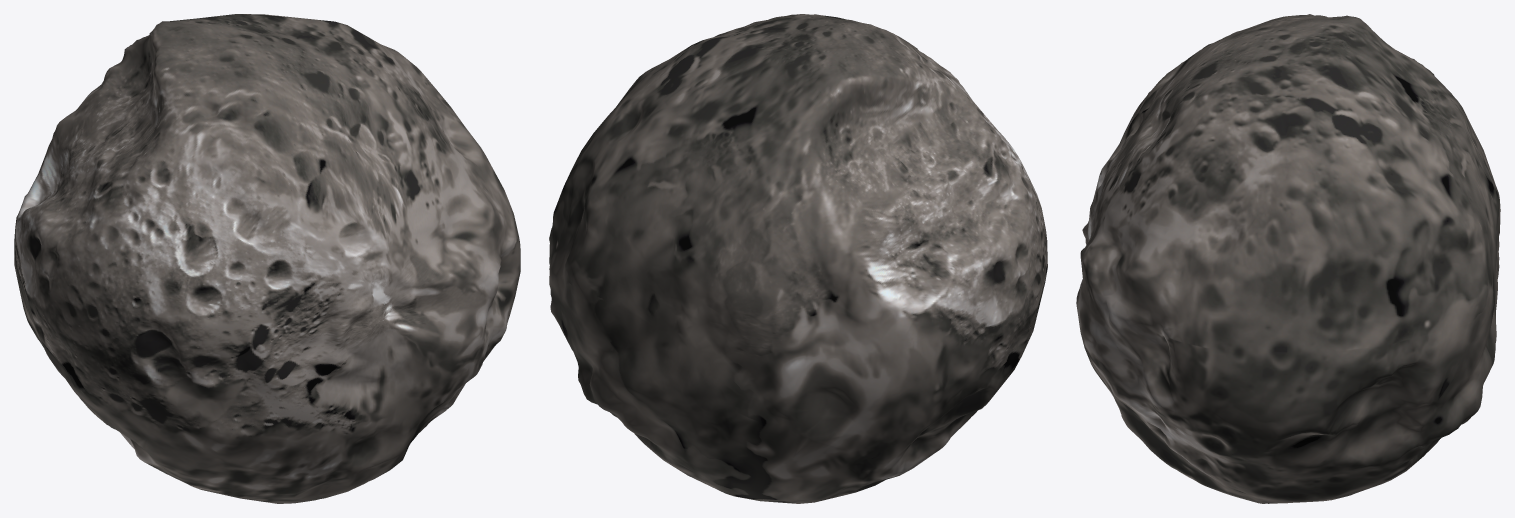
File: phoebe.dae
3 renders of one model, left to right at view 1: azimuth 30°, elevation 25°; view 2: azimuth 150°, elevation 25°; view 3: azimuth 270°, elevation 25°, orthographic. The views are drawn at different scales.
Parts seen in each view (by area): view 1: phoebe03; view 2: phoebe03; view 3: phoebe03.
Boxes of the visible parts, <box> form: phoebe03: <box>14,14,520,503</box>; phoebe03: <box>549,14,1047,503</box>; phoebe03: <box>1076,14,1500,503</box>.
Bounding box in the file's own units: 1.62 × 1.4 × 1.6.
Materials: 1 (1 with a texture image).
